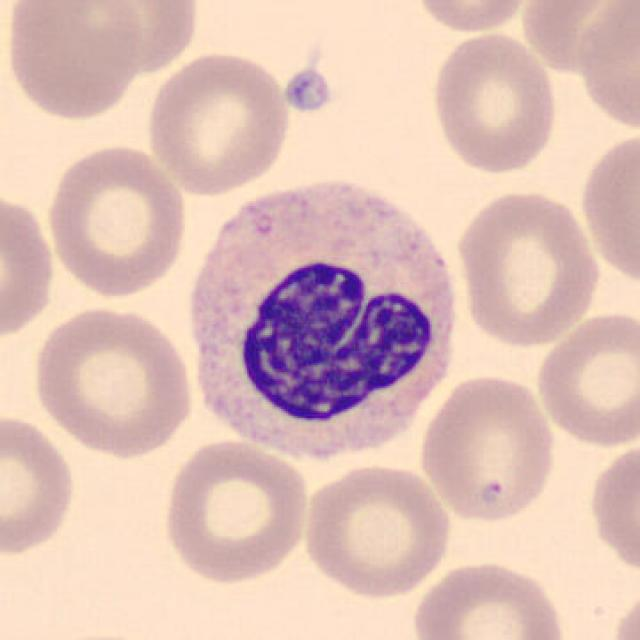Neutrophil: (174, 169, 468, 476)
Platelets: (281, 65, 334, 115)
RBC: (27, 302, 197, 460), (453, 185, 603, 349), (41, 140, 192, 302), (158, 436, 313, 586), (142, 48, 294, 198), (416, 370, 560, 527), (299, 460, 455, 601), (426, 28, 562, 176), (0, 0, 147, 123), (532, 306, 638, 449), (409, 555, 571, 640), (0, 409, 80, 559), (576, 127, 640, 289), (68, 0, 202, 74), (0, 187, 59, 347), (508, 0, 638, 71), (570, 1, 640, 130), (585, 434, 638, 582), (402, 0, 528, 35), (26, 627, 176, 640), (606, 582, 638, 640)
